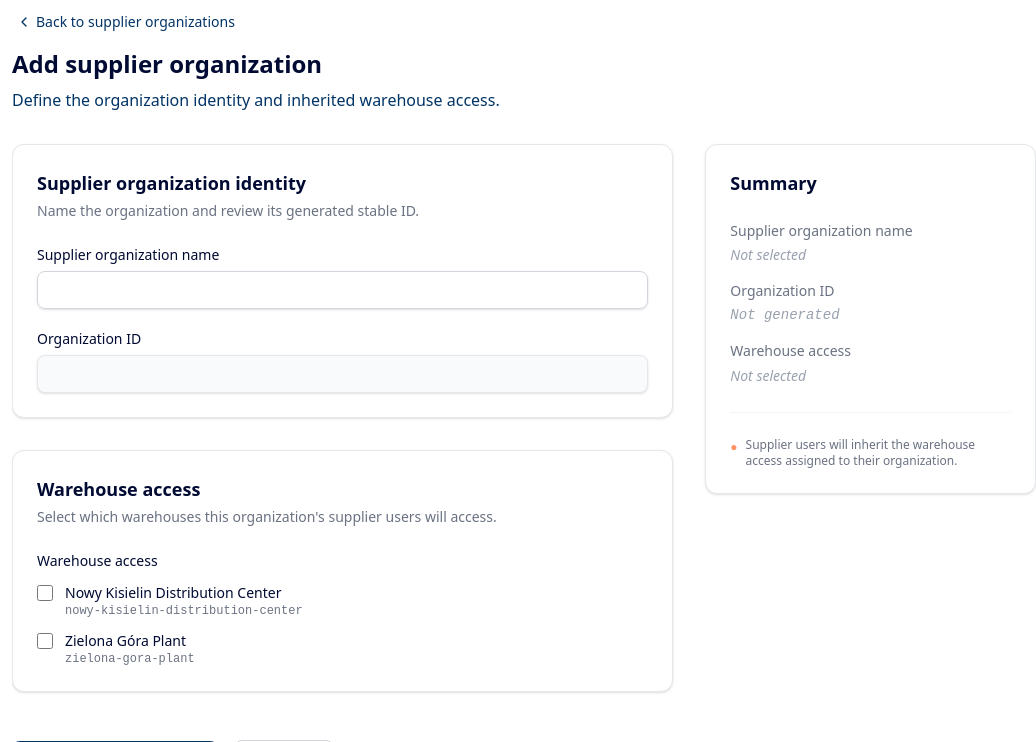
Test case: AddSupplierOrganizationPage › 8. collapses repeated separators and lowercases the stable ID;
The image size is (1036, 742).
Type "  Baltic   Freight---Poland  " into the field labelled "Supplier organization name" at (343, 290), box [37,271,648,309]
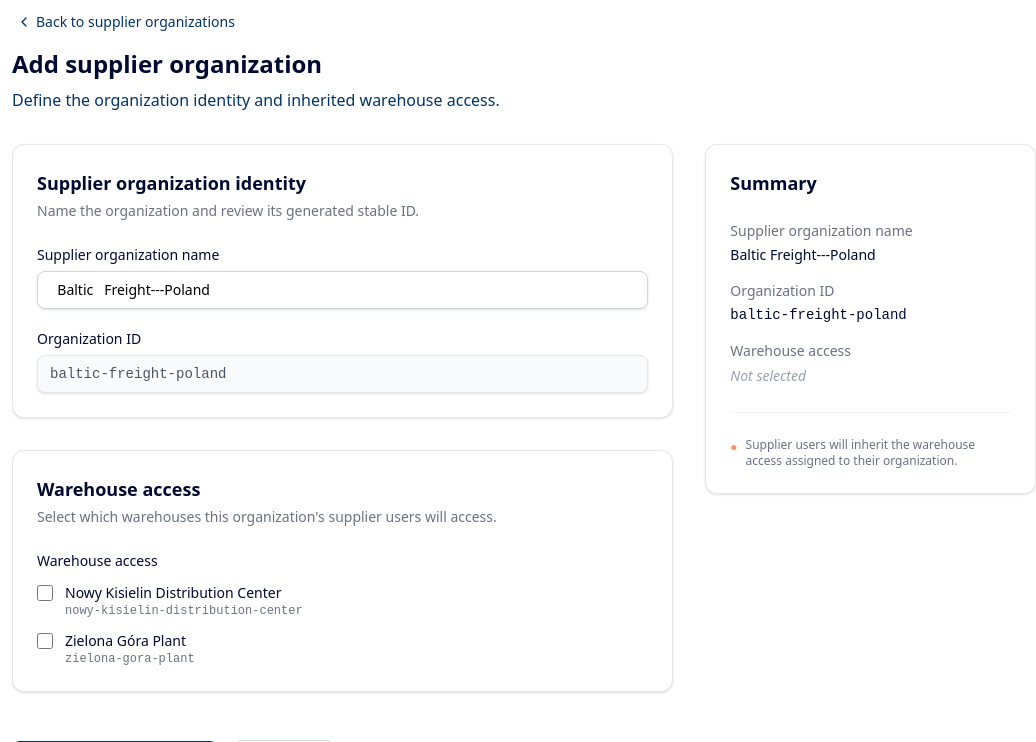
Result: the field labelled "Organization ID" holds "baltic-freight-poland" at [37,355,648,393]
